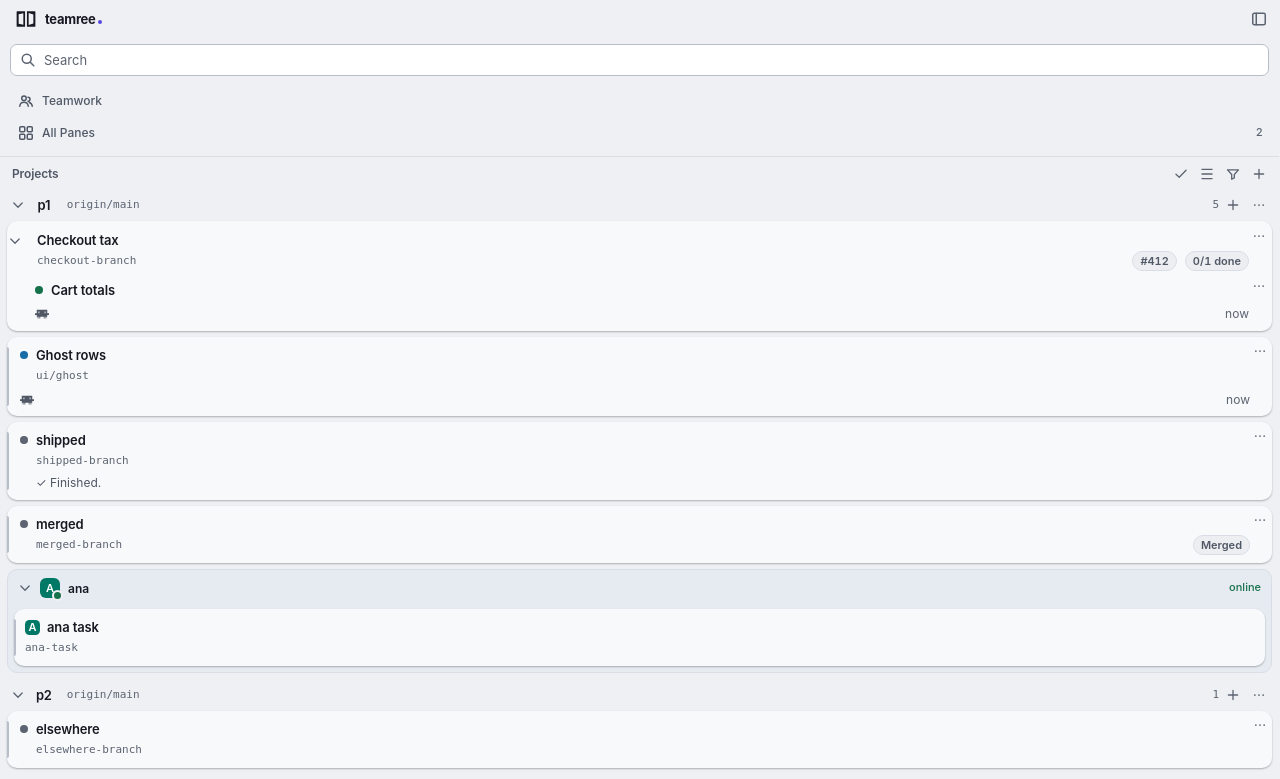
Test: the filter field › says so when nothing matches
Click the button named "Filter" at (1233, 174), box [1221, 162, 1245, 186]
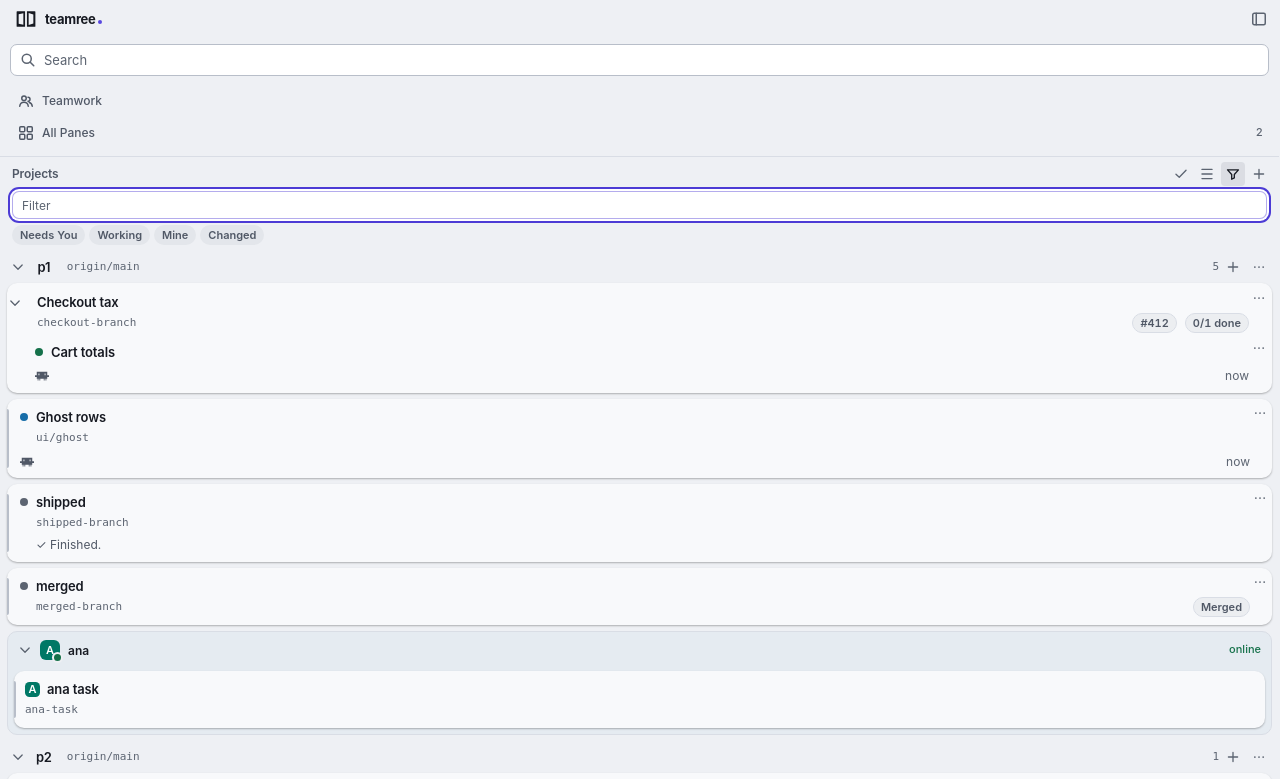
Type "zzz" into the search field named "Filter worktrees" at (640, 205), box [12, 191, 1267, 219]
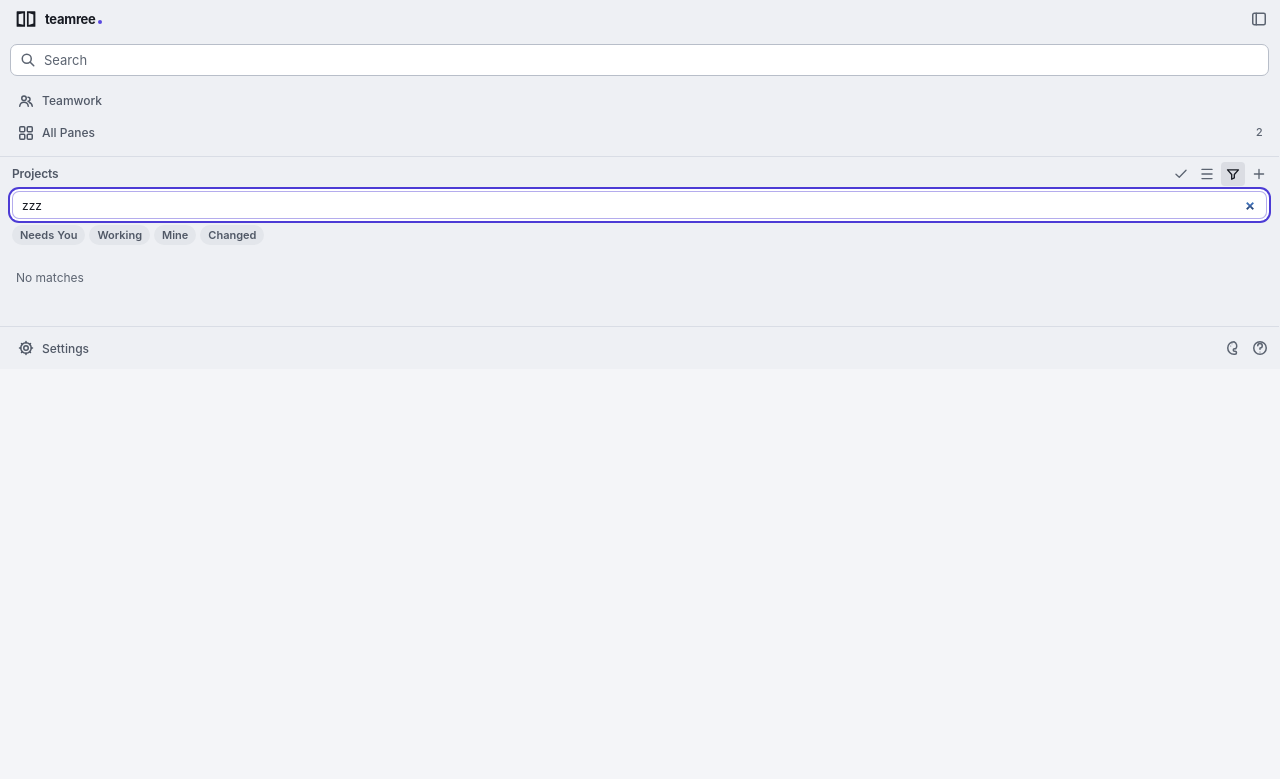
Now the text "No matches" is shown, box [16, 270, 84, 285]
